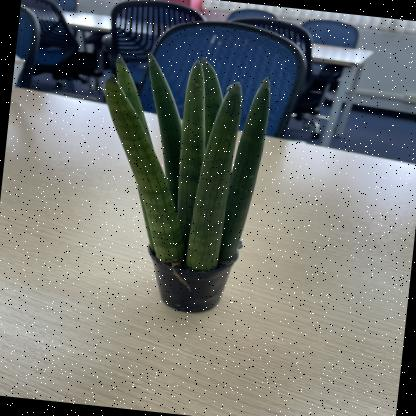Spear: (78, 45, 280, 268)
